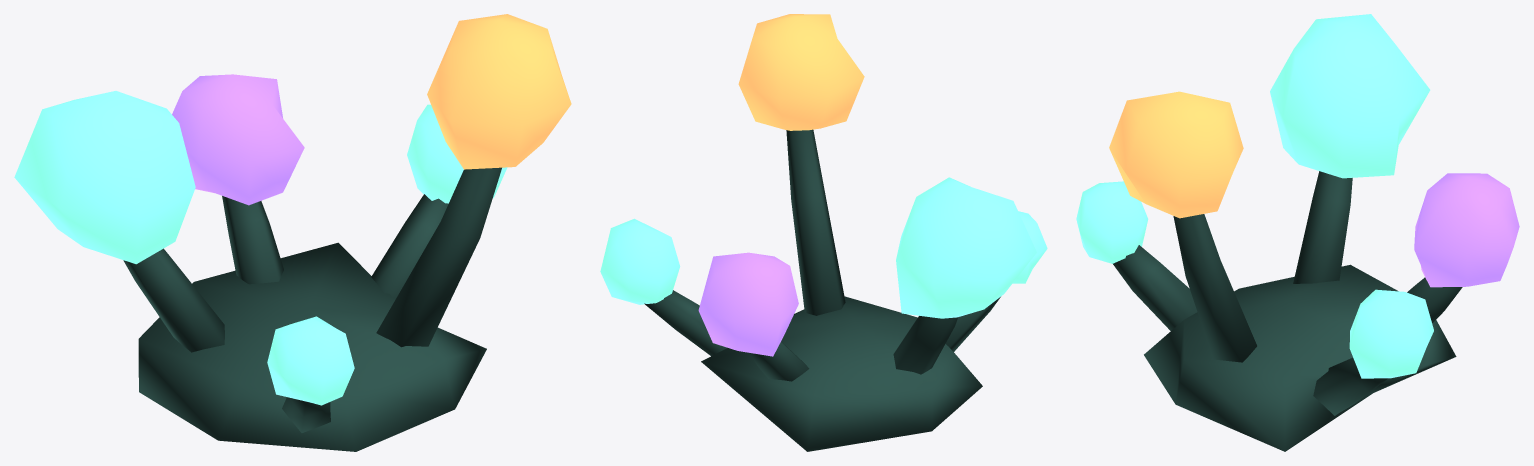
Rendered from flora_pods.glb.
3 views of the same model, side by side, from view 1: azimuth 30°, elevation 25°; view 2: azimuth 150°, elevation 25°; view 3: azimuth 270°, elevation 25° (orthographic). The views are drawn at different scales.
Visible parts, largest first — view 1: flora_pods; view 2: flora_pods; view 3: flora_pods.
Part boxes in pixels (x1=…): flora_pods: x1=14, y1=14, x2=571, y2=451; flora_pods: x1=600, y1=14, x2=1047, y2=451; flora_pods: x1=1076, y1=14, x2=1519, y2=451.
Size of the model in its own units: 1.04 by 0.817 by 0.9241.
